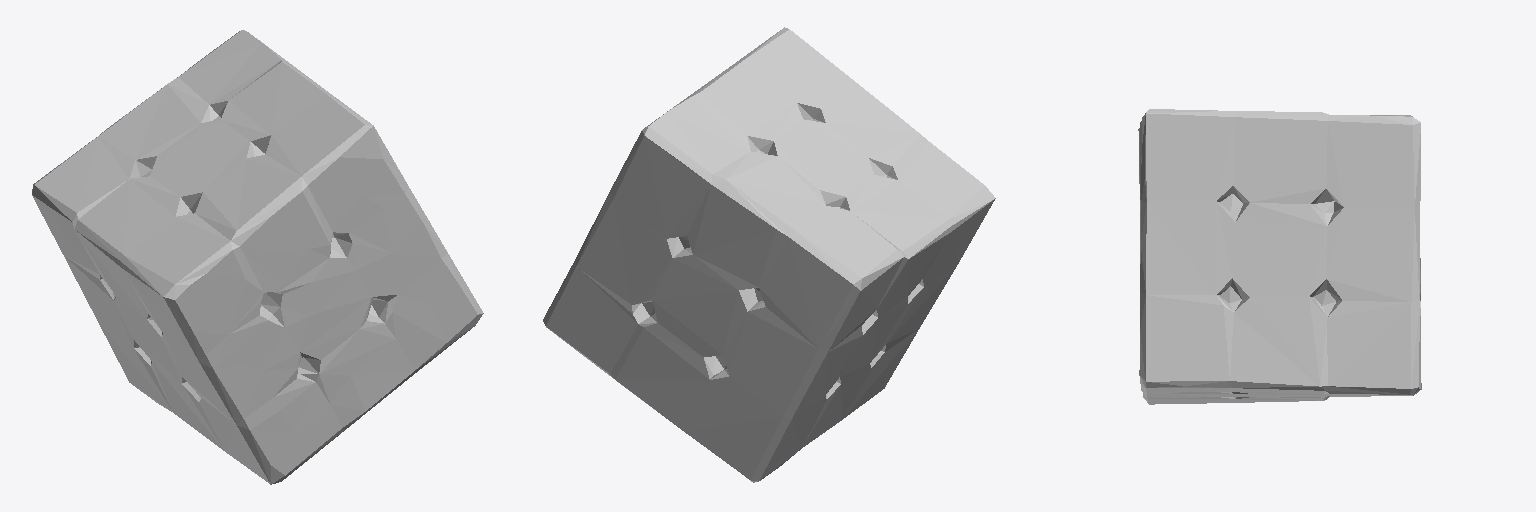
The model's file is rubiks2.obj.
The picture shows the model from 3 angles: view 1: azimuth 30°, elevation 25°; view 2: azimuth 150°, elevation 25°; view 3: azimuth 270°, elevation 25°; orthographic projection.
Visible parts, largest first — view 1: rubiks1.001; view 2: rubiks1.001; view 3: rubiks1.001.
Part boxes in pixels (x1,y1,x2,y2): rubiks1.001: (32,30,483,484); rubiks1.001: (543,27,995,482); rubiks1.001: (1138,109,1421,404).
Bounding box in the file's own units: 17.77 × 17.73 × 13.51.